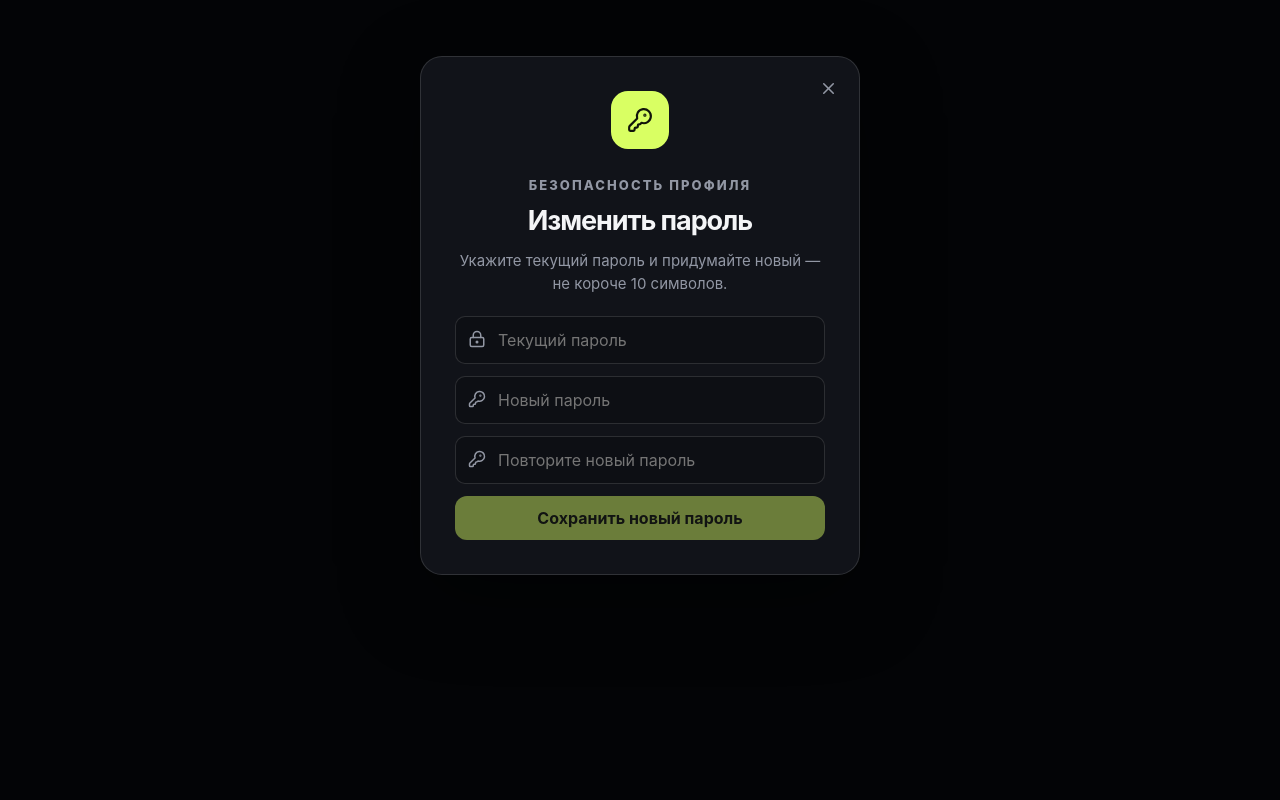
Scenario: PasswordChangeModal › confirms the new password and sends the current password
Type "28051961" into the password field with placeholder "Текущий пароль".
click(640, 340); type("28051961")  # box [455,316,825,364]
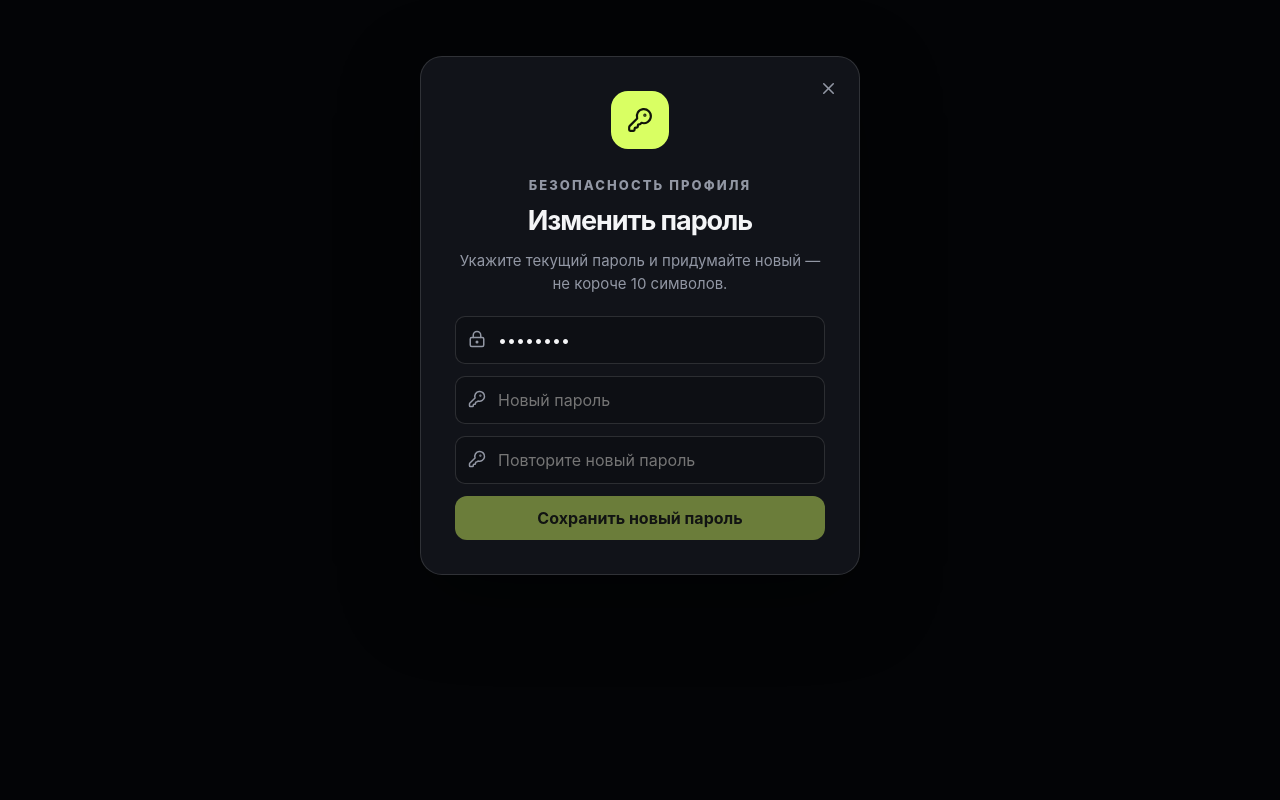
Type "another-secure-password" into the password field with placeholder "Новый пароль".
click(640, 400); type("another-secure-password")  # box [455,376,825,424]
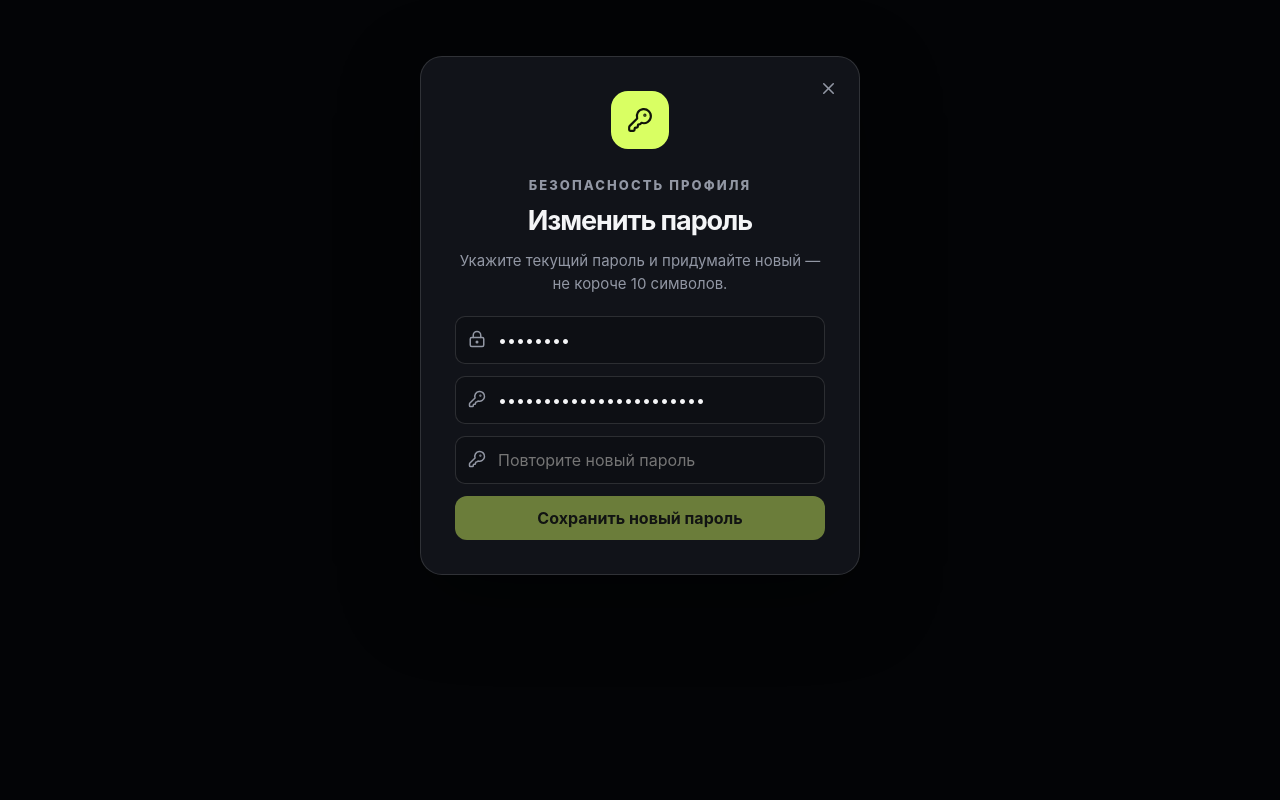
Type "another-secure-password" into the password field with placeholder "Повторите новый пароль".
click(640, 460); type("another-secure-password")  # box [455,436,825,484]
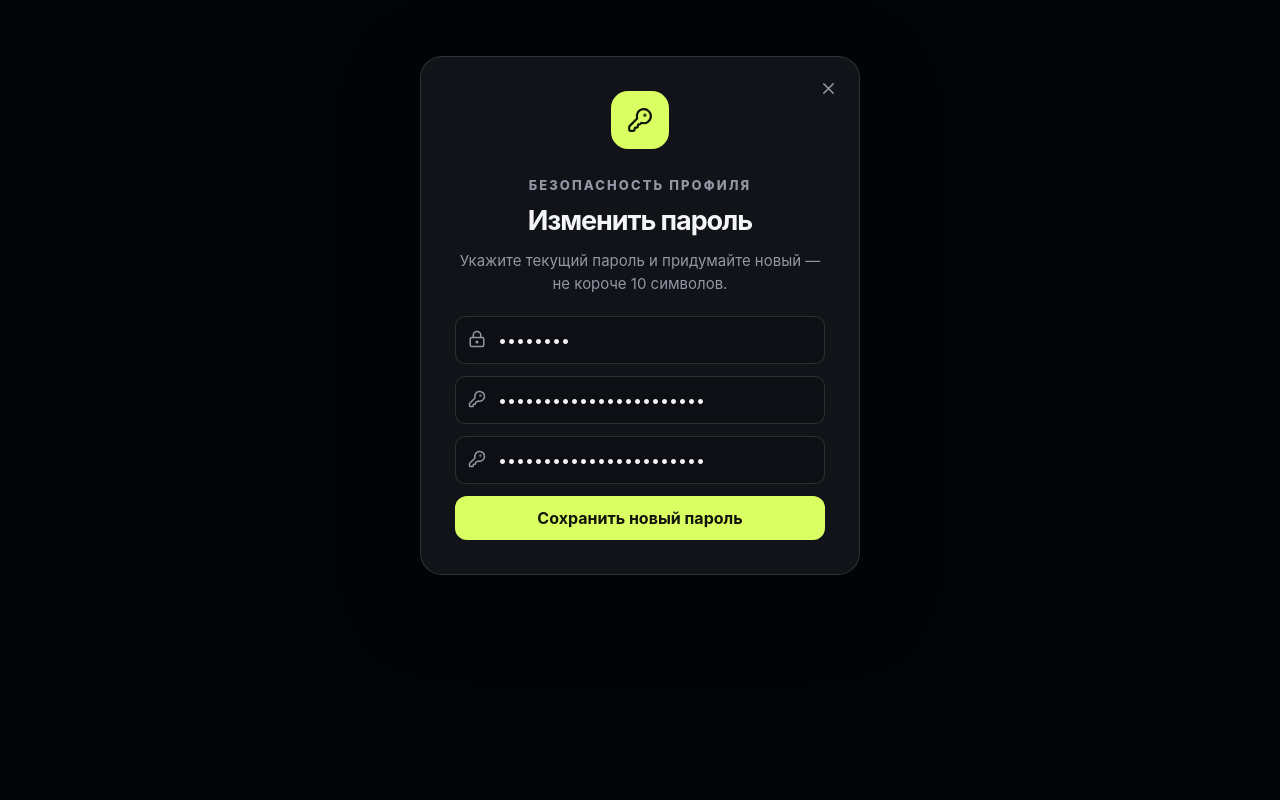
Click the button "Сохранить новый пароль".
click(640, 518)  # box [455,496,825,540]
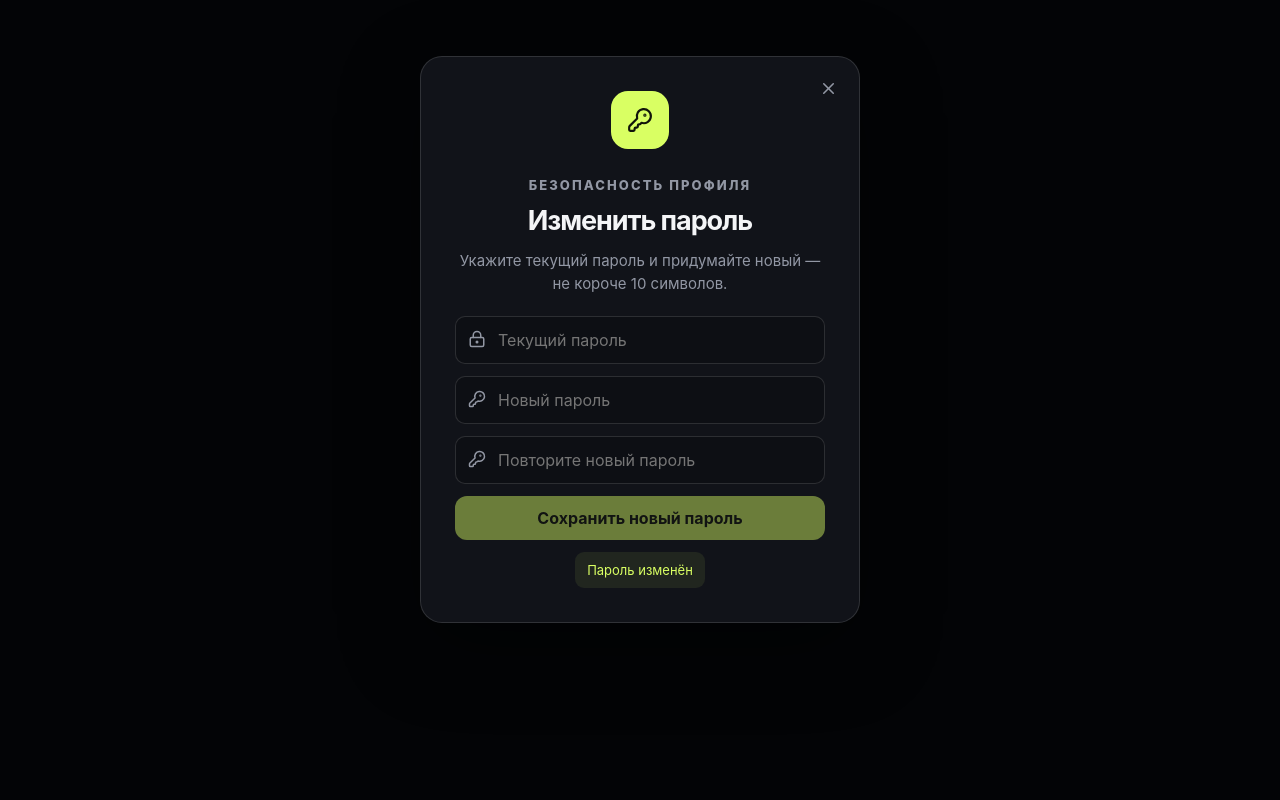
Now the text "Пароль изменён" is shown, box [575,552,705,588]
